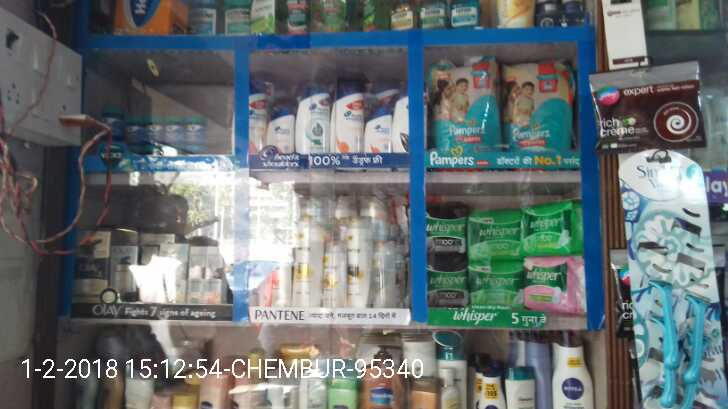vicks: (102, 110, 207, 152)
